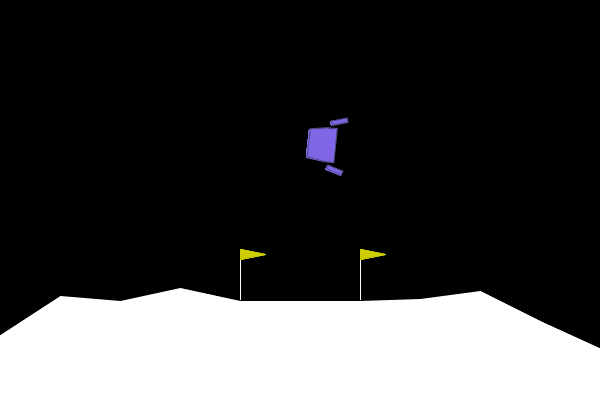lander: (303, 113, 349, 177)
